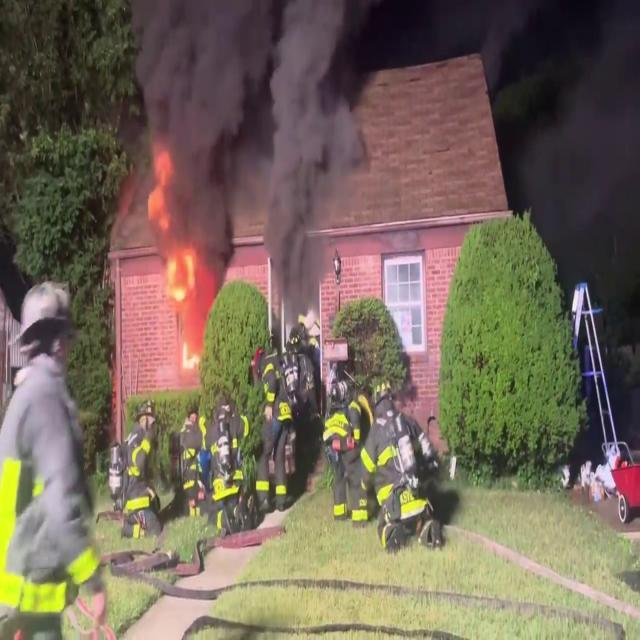Fire: (139, 136, 205, 362)
Smoke: (135, 0, 370, 265), (481, 0, 639, 296)
